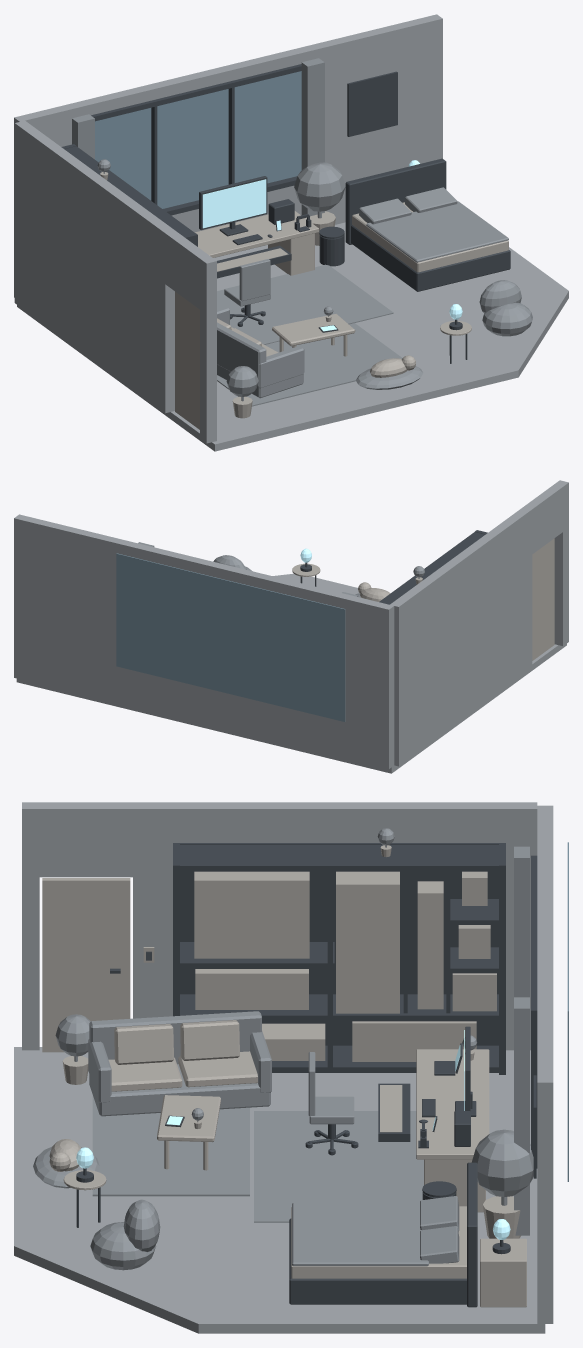
File: sharkys_room_blockout_FINAL.glb
3 renders of one model, top to bottom at view 1: azimuth 30°, elevation 25°; view 2: azimuth 150°, elevation 25°; view 3: azimuth 270°, elevation 25°, orthographic. The views are drawn at different scales.
Parts seen in each view (by area): view 1: ENV_Wall_Left, ENV_Floor, ENV_Wall_Right, ENV_WindowGlass, FUR_Bed, DEC_Rug_Workstation, DEC_Rug_Lounge, FUR_Sofa, FUR_Desk, ENV_WindowFrame, ENV_Door, DEC_WallArt (+14 smaller); view 2: ENV_Wall_Right, ENV_Wall_Left, ENV_CityBackground, ENV_Floor, ENV_Door, FUR_DisplayCabinet, DEC_DogBedProxy; view 3: ENV_Floor, ENV_Wall_Left, FUR_DisplayCabinet, FUR_Bed, FUR_Sofa, DEC_Rug_Workstation, ENV_Door, DEC_Rug_Lounge, DSP_Castle_Bounds, DSP_EiffelTower_Bounds, ENV_Wall_Right, FUR_Desk (+21 smaller).
Boxes of the visible parts, x1,y1,x2,y2 form: ENV_Wall_Left: (14,120,216,443); ENV_Floor: (17,222,568,451); ENV_Wall_Right: (14,14,442,297); ENV_WindowGlass: (95,71,301,208); FUR_Bed: (345,158,510,291); DEC_Rug_Workstation: (217,264,393,344); DEC_Rug_Lounge: (217,323,402,406); FUR_Sofa: (217,306,304,398); FUR_Desk: (195,211,318,275); ENV_WindowFrame: (91,64,301,215); ENV_Door: (175,291,199,429); DEC_WallArt: (347,71,397,136); ENV_Wall_Right: (14,514,394,769); ENV_Wall_Left: (390,480,568,766); ENV_CityBackground: (116,553,345,721); ENV_Floor: (16,573,566,773); ENV_Door: (532,538,554,660); FUR_DisplayCabinet: (379,530,487,604); DEC_DogBedProxy: (355,582,390,601); ENV_Floor: (14,1047,545,1333); ENV_Wall_Left: (22,802,537,1050); FUR_DisplayCabinet: (173,843,505,1074); FUR_Bed: (289,1162,477,1307); FUR_Sofa: (88,1011,271,1116); DEC_Rug_Workstation: (254,1111,423,1222); ENV_Door: (42,878,130,1052); DEC_Rug_Lounge: (92,1095,249,1196); DSP_Castle_Bounds: (194,871,309,958); DSP_EiffelTower_Bounds: (336,871,399,1013); ENV_Wall_Right: (537,805,553,1323); FUR_Desk: (416,1049,489,1212).
Bounding box in the file's own units: 7.47 × 3.12 × 6.25.
